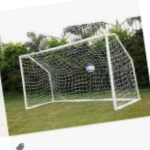goals: (18, 31, 144, 111)
